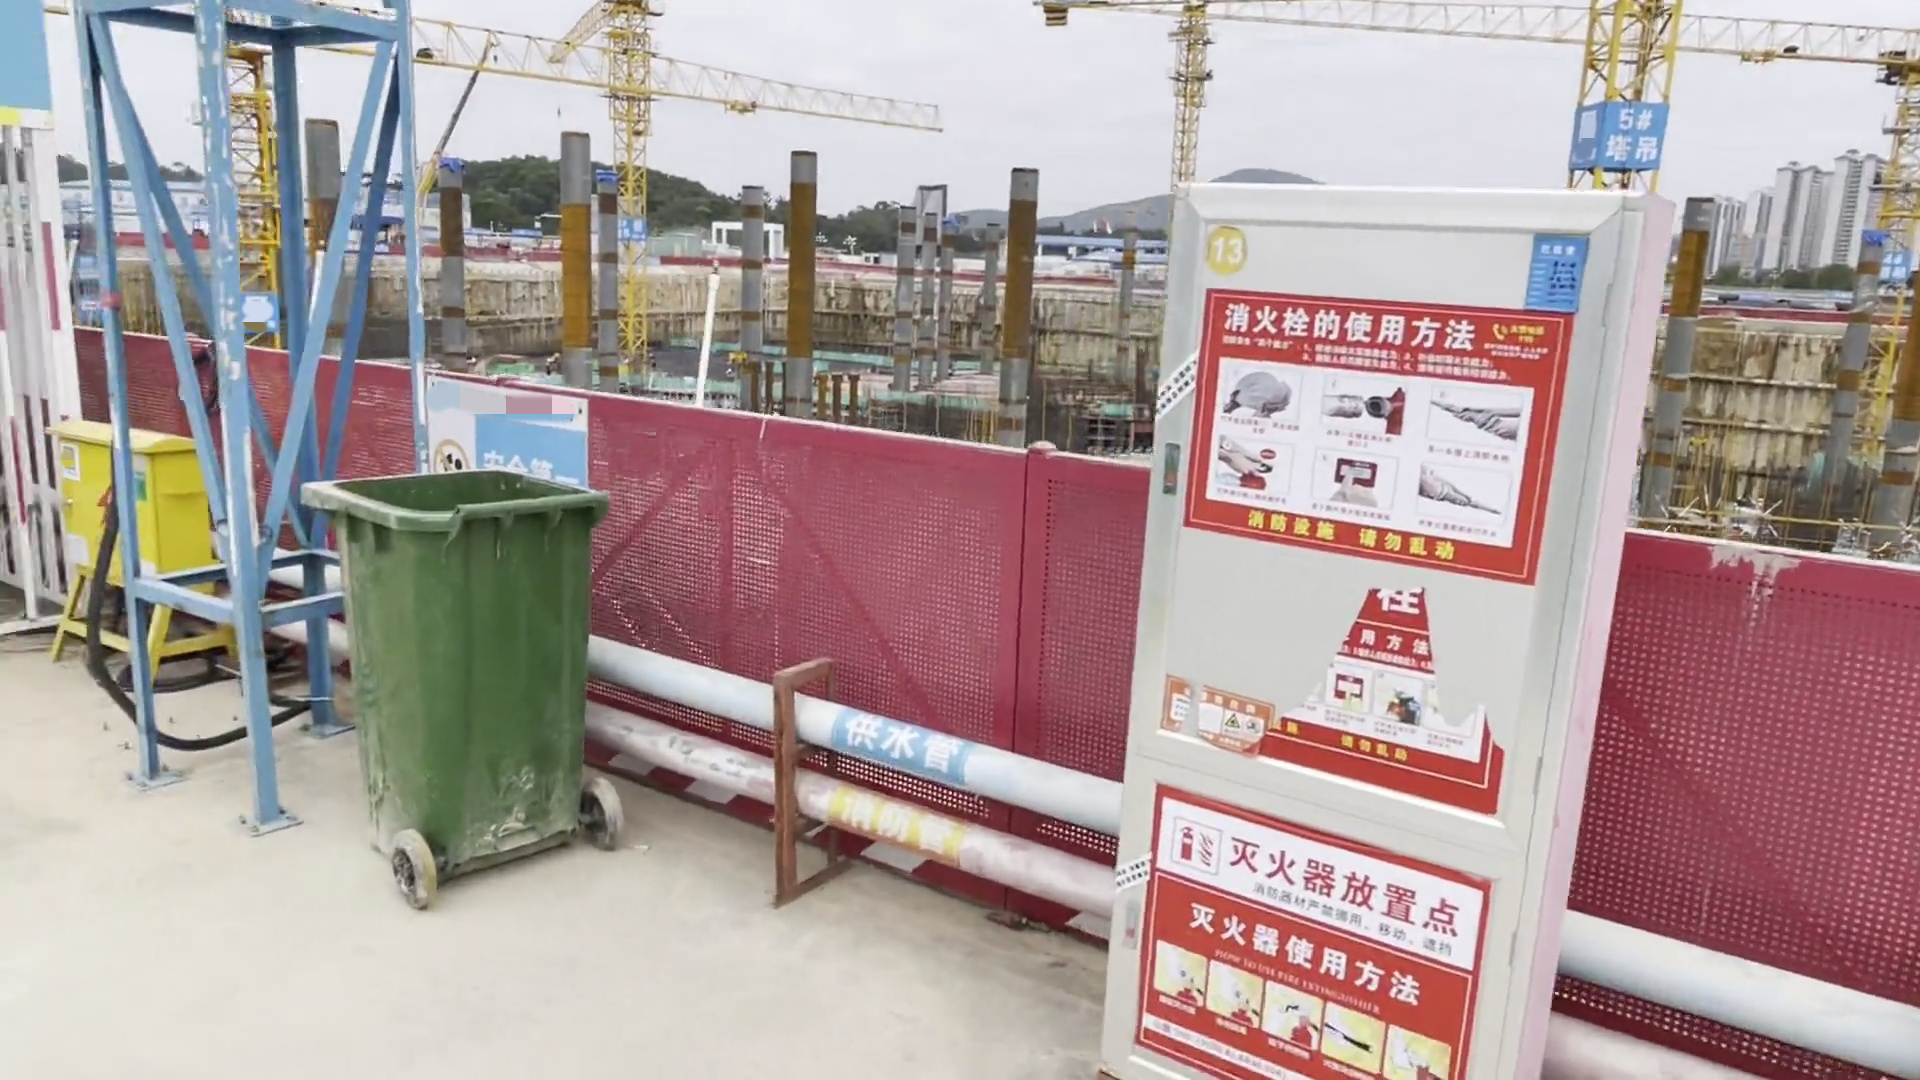ebox: (36, 396, 243, 676)
